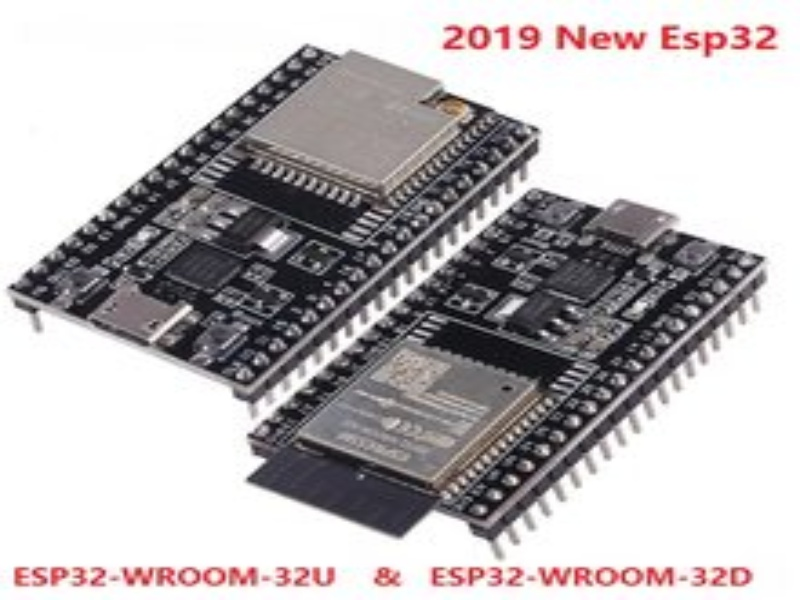esp32: (13, 38, 544, 404), (251, 186, 773, 541)
